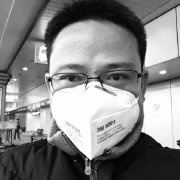Mask: (51, 62, 144, 155)
